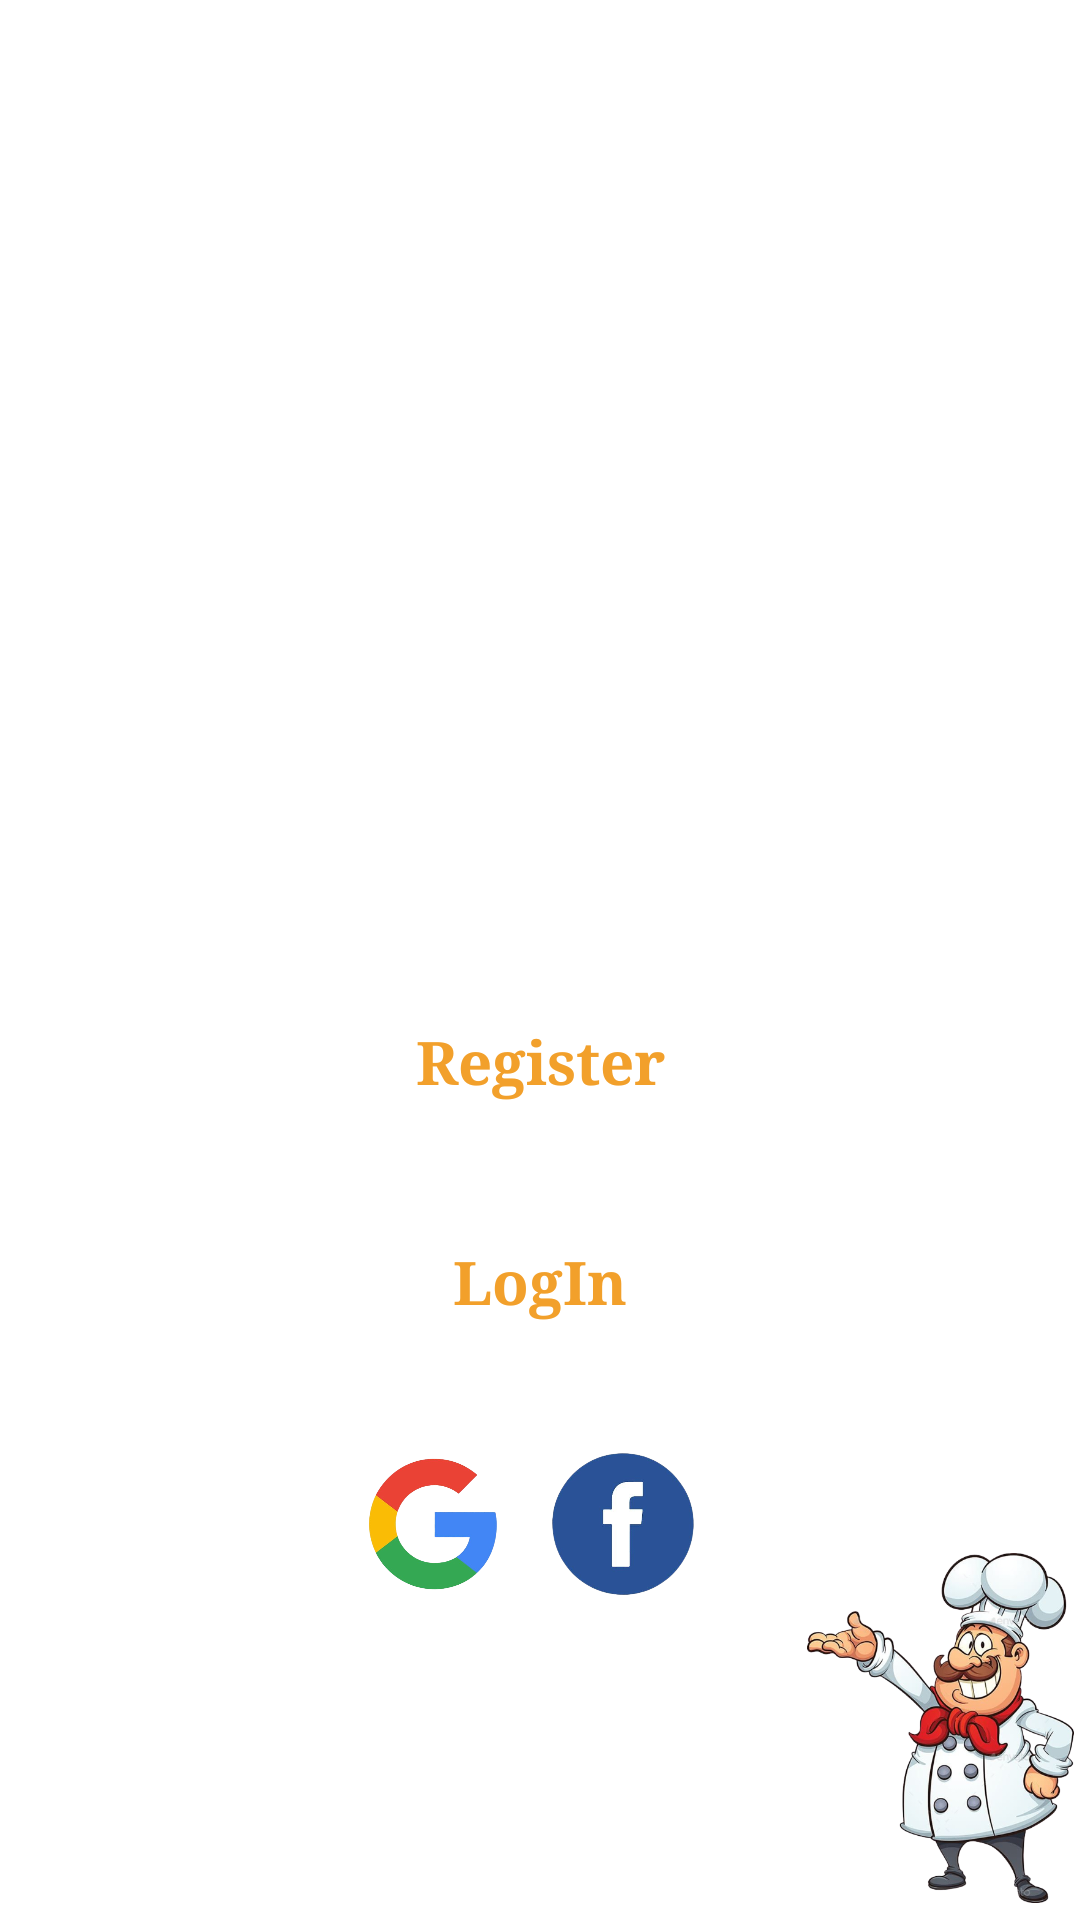

Screen size 1080*1920. Icon name, then its box in pixels as (x1, y1, x2, y2):
chef: (807, 1553, 1074, 1903)
